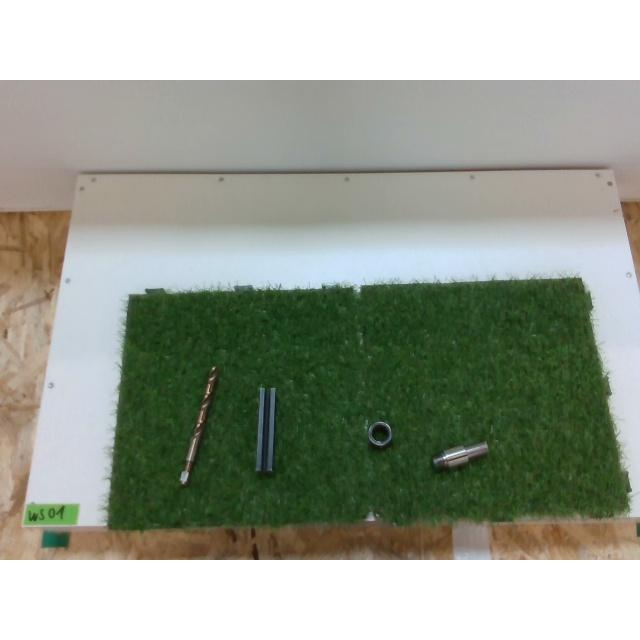Axis2: (432, 442, 488, 470)
Bearing2: (368, 420, 392, 448)
Drill: (179, 366, 219, 486)
F20_20_B: (256, 386, 276, 472)
